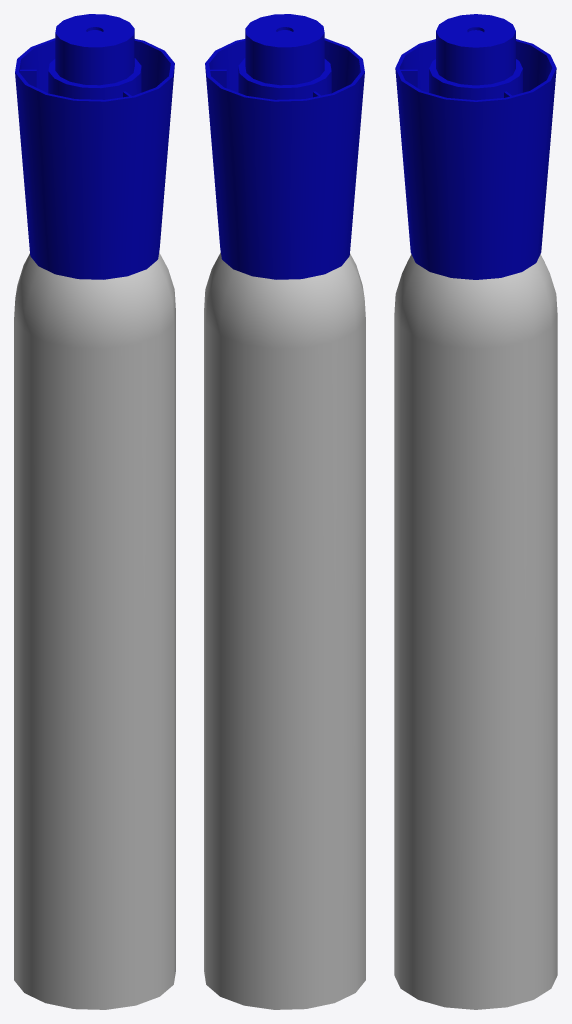
3 renders of one model, left to right at view 1: azimuth 30°, elevation 25°; view 2: azimuth 150°, elevation 25°; view 3: azimuth 270°, elevation 25°, orthographic.
Visible parts, largest first — view 1: marker, marker_cap; view 2: marker, marker_cap; view 3: marker, marker_cap.
Part boxes in pixels (box(x1,y1,x2,y2)): marker: box(14, 252, 175, 1009); marker_cap: box(15, 14, 174, 279); marker: box(204, 252, 365, 1009); marker_cap: box(205, 14, 364, 279); marker: box(394, 254, 557, 1009); marker_cap: box(395, 14, 556, 279).
Bounding box in the file's own units: 0.0185 × 0.1182 × 0.0185.
